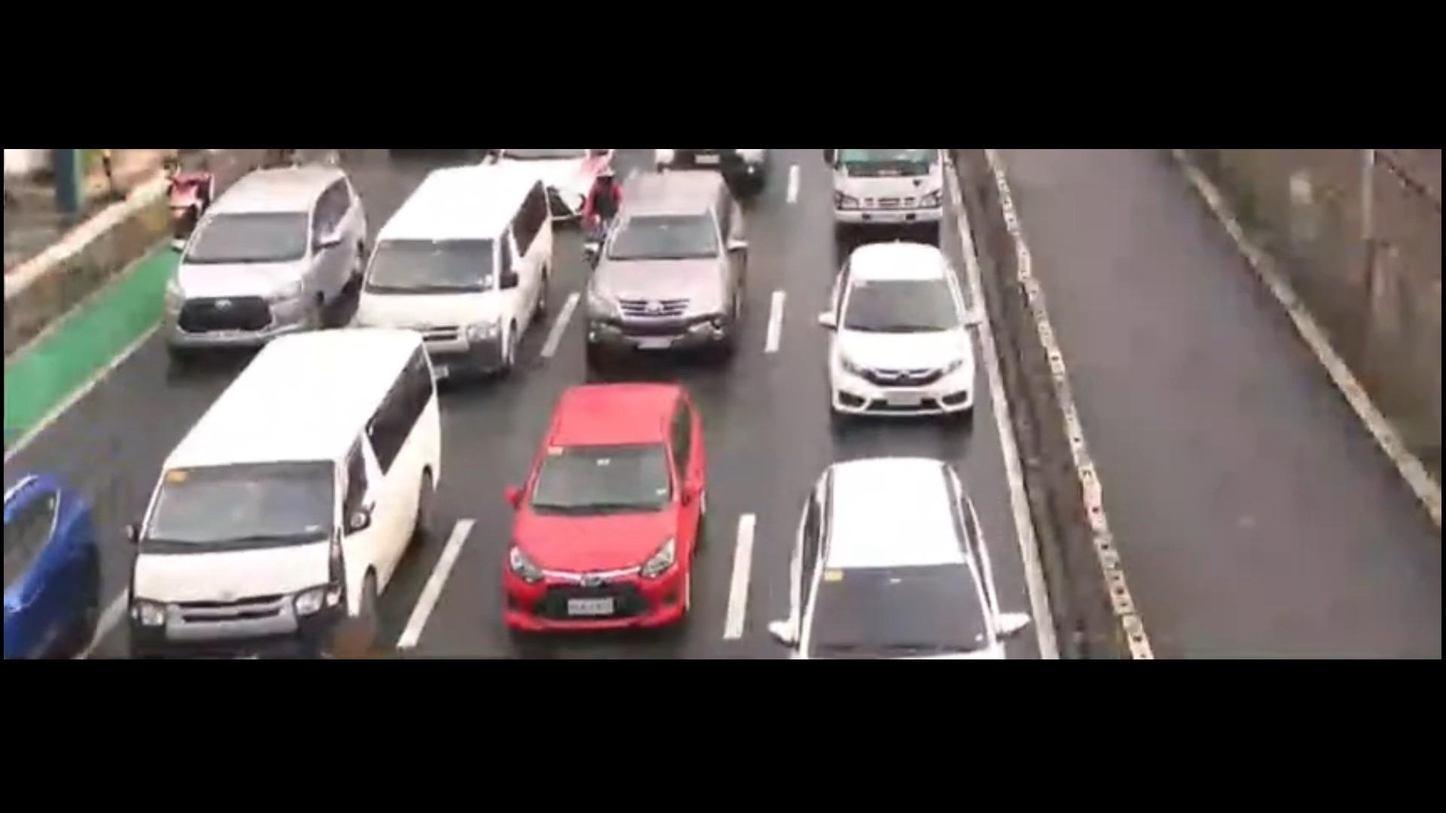Motorcycle: (144, 151, 230, 244)
SUV: (772, 453, 1048, 666), (147, 153, 375, 363), (573, 177, 757, 371)
Sedan: (481, 364, 706, 649), (801, 226, 1008, 452), (0, 465, 110, 667)
Truck: (834, 147, 962, 249)
Van: (122, 328, 452, 663), (340, 172, 584, 371)
